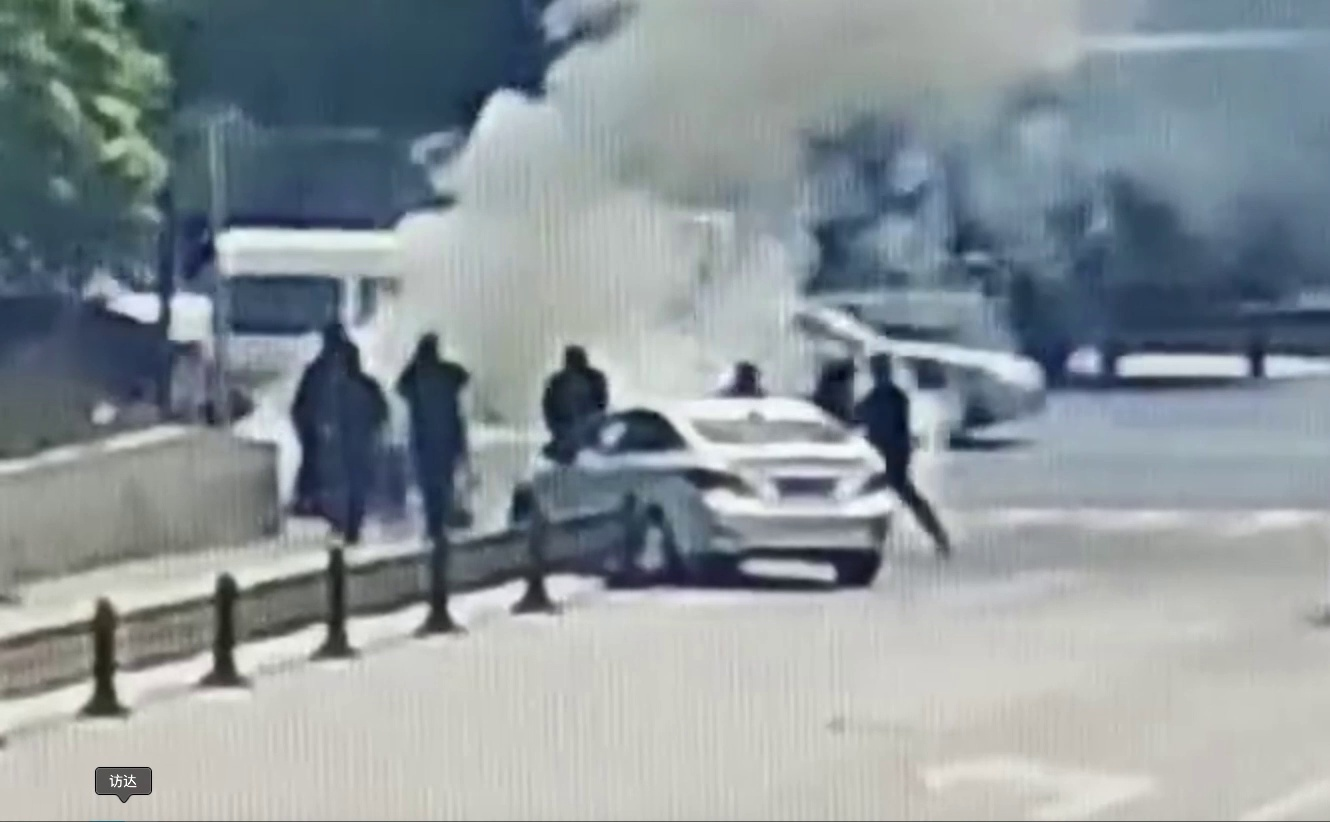smoke: (377, 1, 1039, 416)
